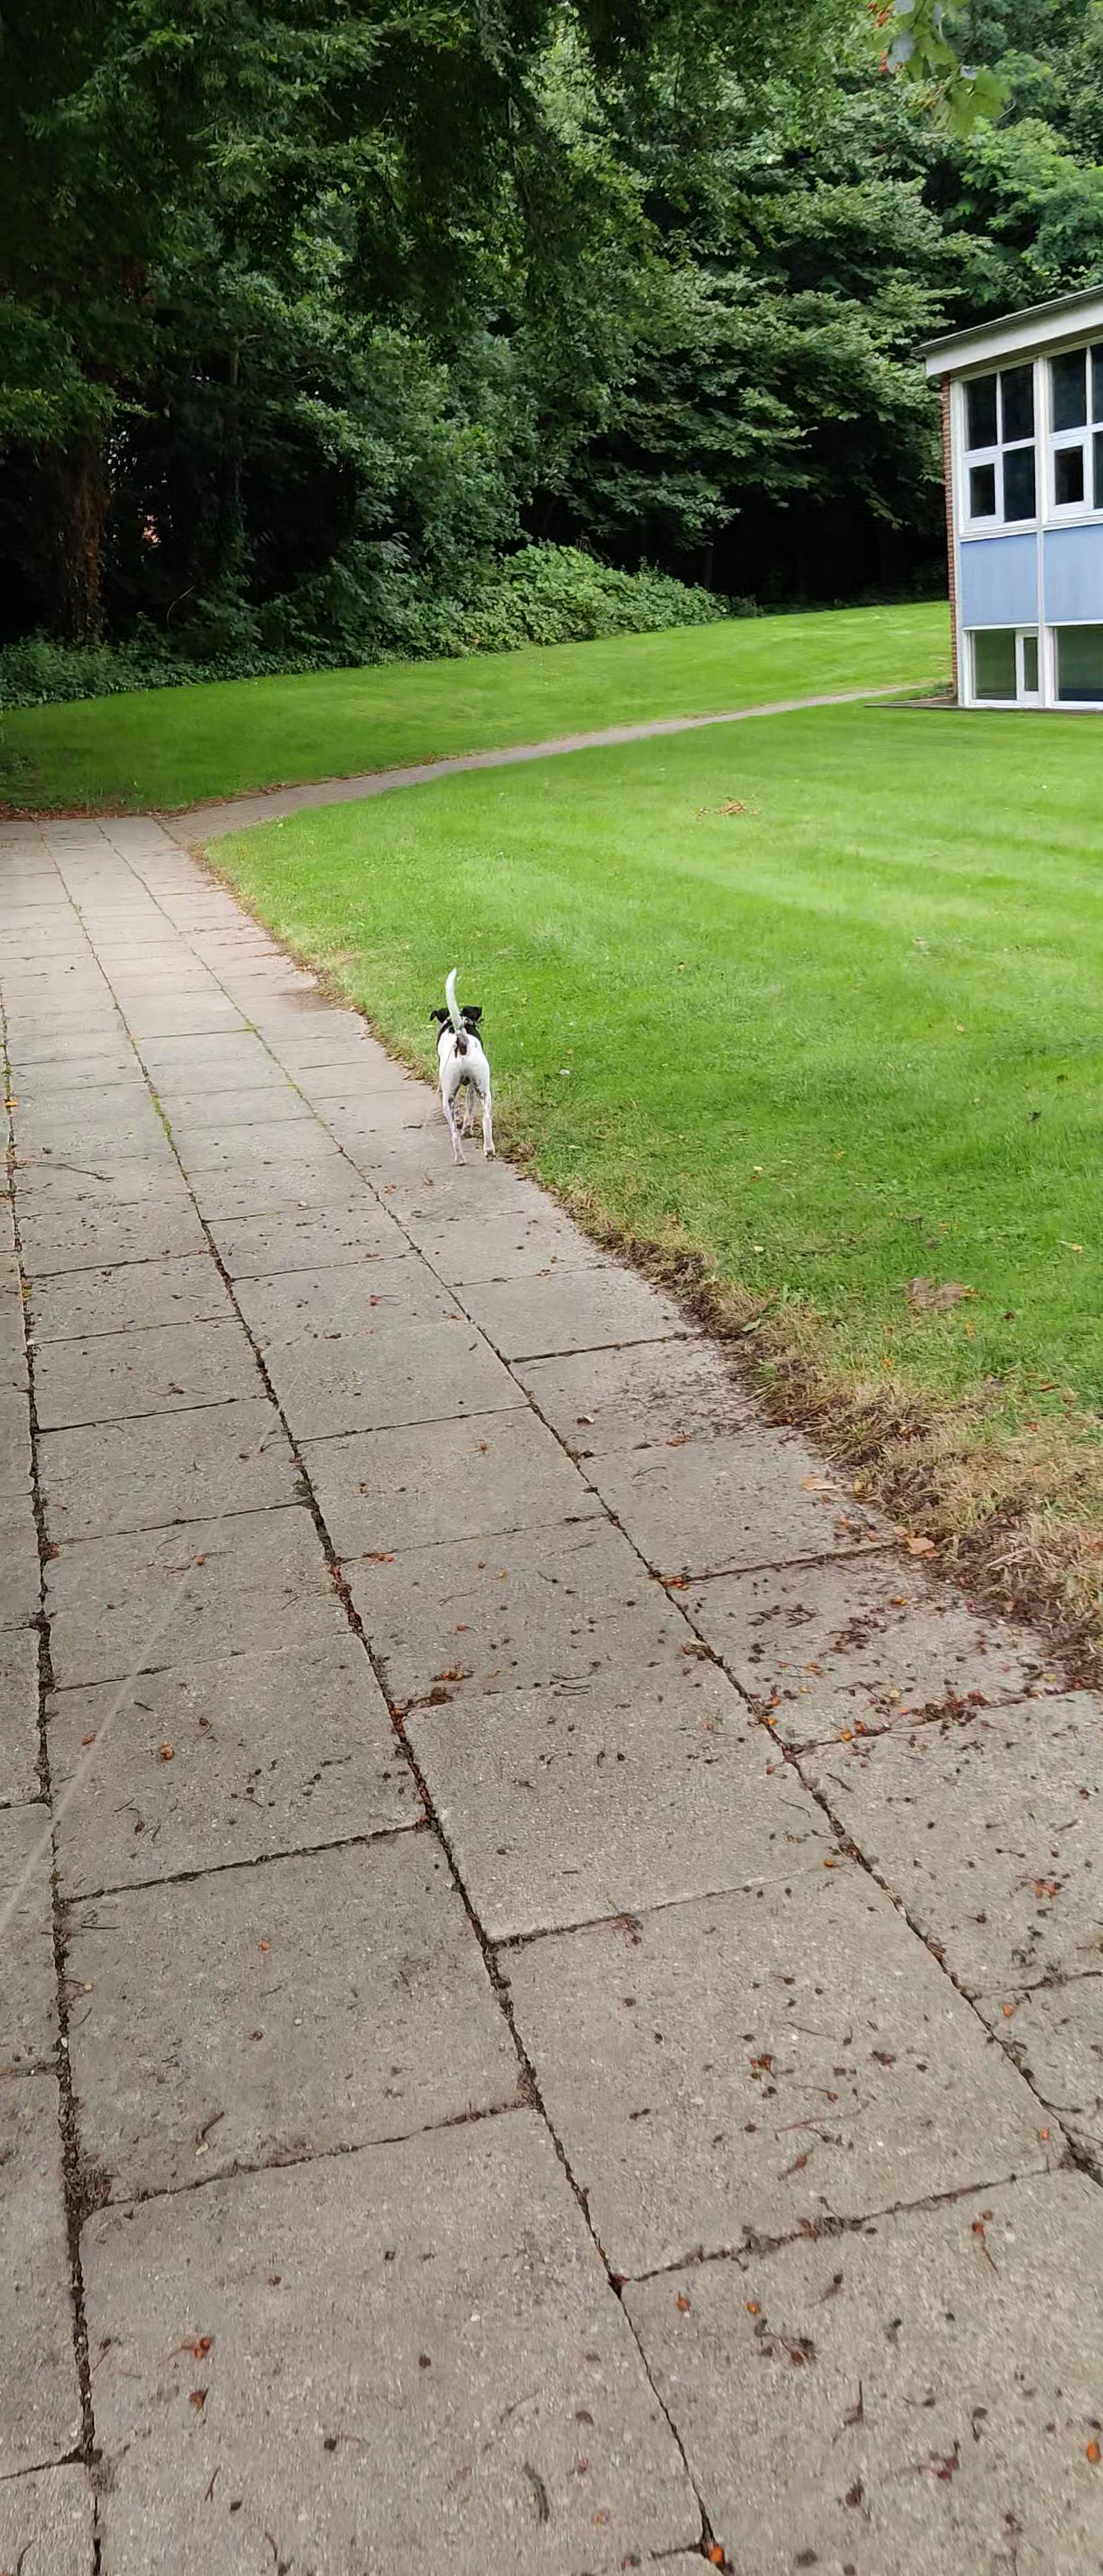Dog: (416, 959, 506, 1176)
